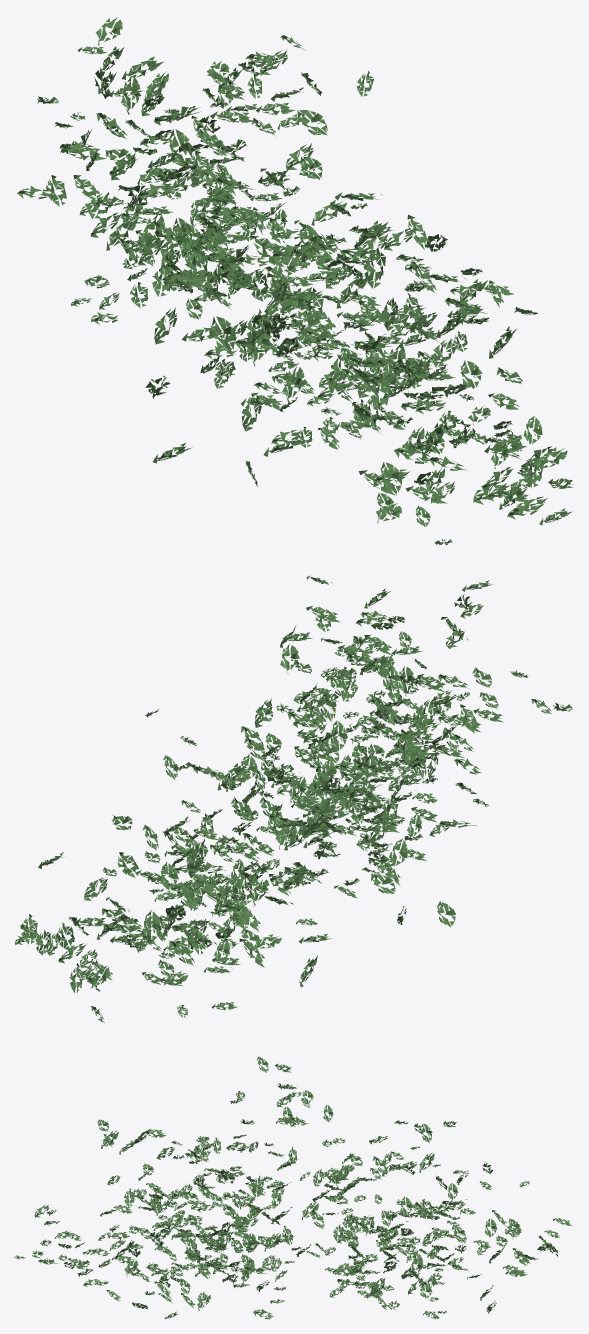
The model's file is holy_canopy9_real.glb.
3 renders of one model, top to bottom at view 1: azimuth 30°, elevation 25°; view 2: azimuth 150°, elevation 25°; view 3: azimuth 270°, elevation 25°, orthographic. The views are drawn at different scales.
Visible parts, largest first — view 1: holy_canopy9; view 2: holy_canopy9; view 3: holy_canopy9.
Part boxes in pixels (x1,y1,x2,y2): holy_canopy9: (17, 17, 573, 544); holy_canopy9: (14, 575, 572, 1022); holy_canopy9: (14, 1056, 572, 1319).
Bounding box in the file's own units: 10.17 × 12.7 × 27.14.
1 material, 1 textured.
